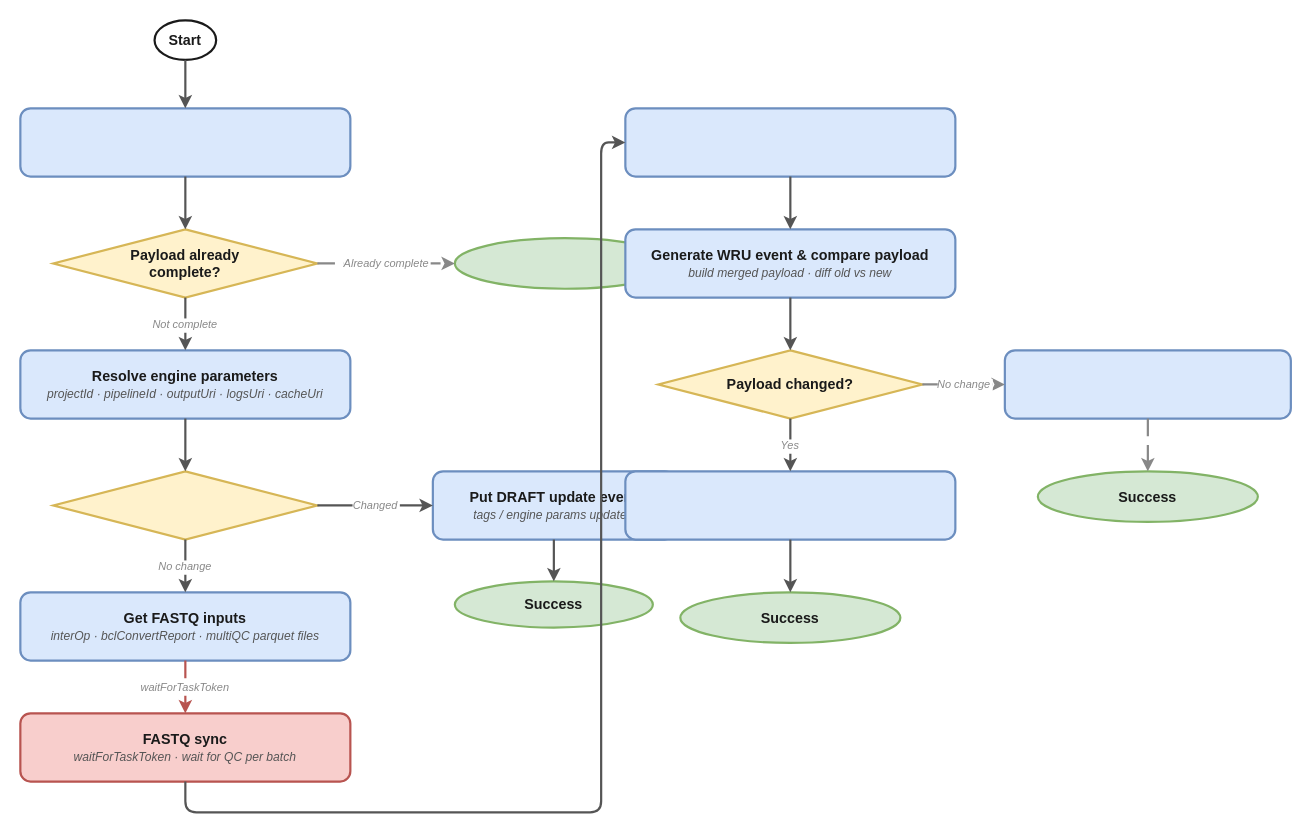
The diagram is 1310 pixels wide and 840 high, and some of its shapes have lost their labels. The centre of each missing label's shape, as x and y in pixels:
"Add sample filters if payload version ≥ threshold" belongs at pixel 790 142.
"Get missing fields & add comment report missing schema fields" belongs at pixel 1147 384.
"Nothing to do" belongs at pixel 564 263.
"Put DRAFT update event fully populated payload" belongs at pixel 790 505.
"Tags or engine params changed?" belongs at pixel 185 505.
"Validate draft data" belongs at pixel 185 142.
